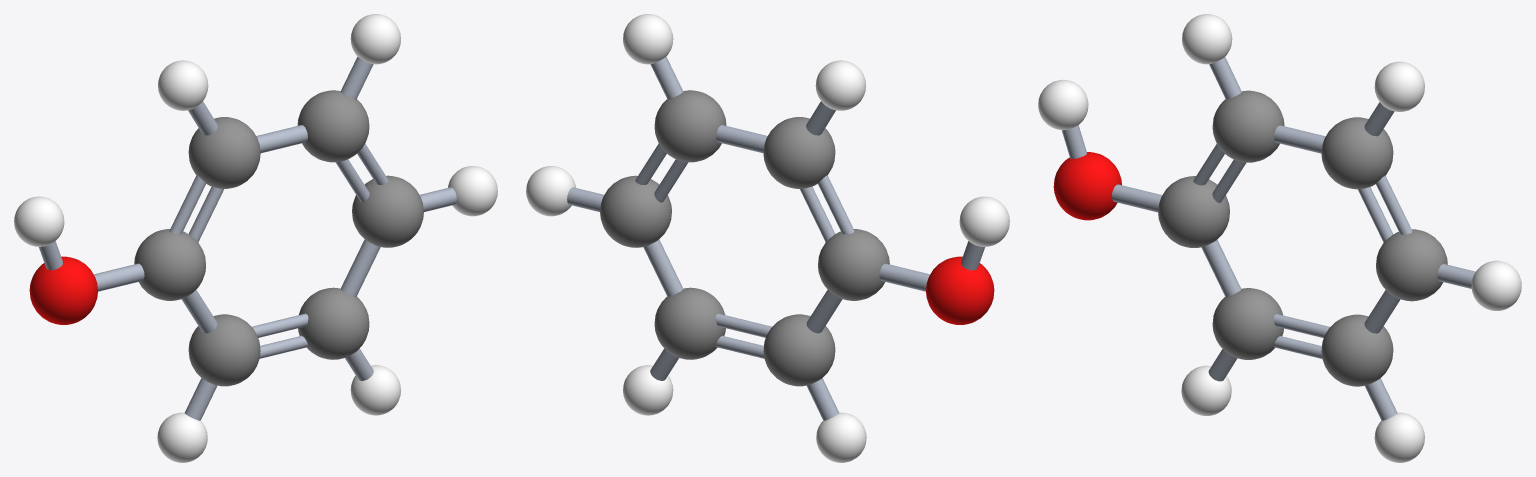
The model's file is phenol.glb.
3 renders of one model, left to right at view 1: azimuth 30°, elevation 25°; view 2: azimuth 150°, elevation 25°; view 3: azimuth 330°, elevation 25°, orthographic.
Visible parts, largest first — view 1: C (×6), H (×6), bond (×15), O; view 2: C (×6), H (×6), bond (×15), O; view 3: C (×6), H (×6), bond (×16), O.
Part boxes in pixels (x1,y1,x2,y2): C (×6): (134, 90, 423, 386); H (×6): (14, 14, 497, 462); bond (×15): (94, 56, 456, 420); O: (29, 256, 97, 324); C (×6): (600, 90, 889, 386); H (×6): (526, 14, 1009, 462); bond (×15): (567, 56, 929, 420); O: (926, 256, 994, 324); C (×6): (1158, 90, 1447, 386); H (×6): (1038, 14, 1521, 462); bond (×16): (1062, 57, 1475, 420); O: (1053, 152, 1121, 220).
Size of the model in its own units: 0.22 by 0.1752 by 0.0288.
